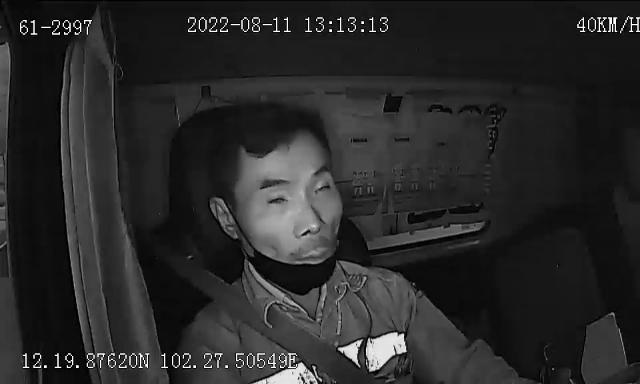SafeDriving: (418, 96, 460, 122), (308, 172, 340, 200), (262, 185, 294, 209)
Seatbelt: (185, 260, 368, 384)
